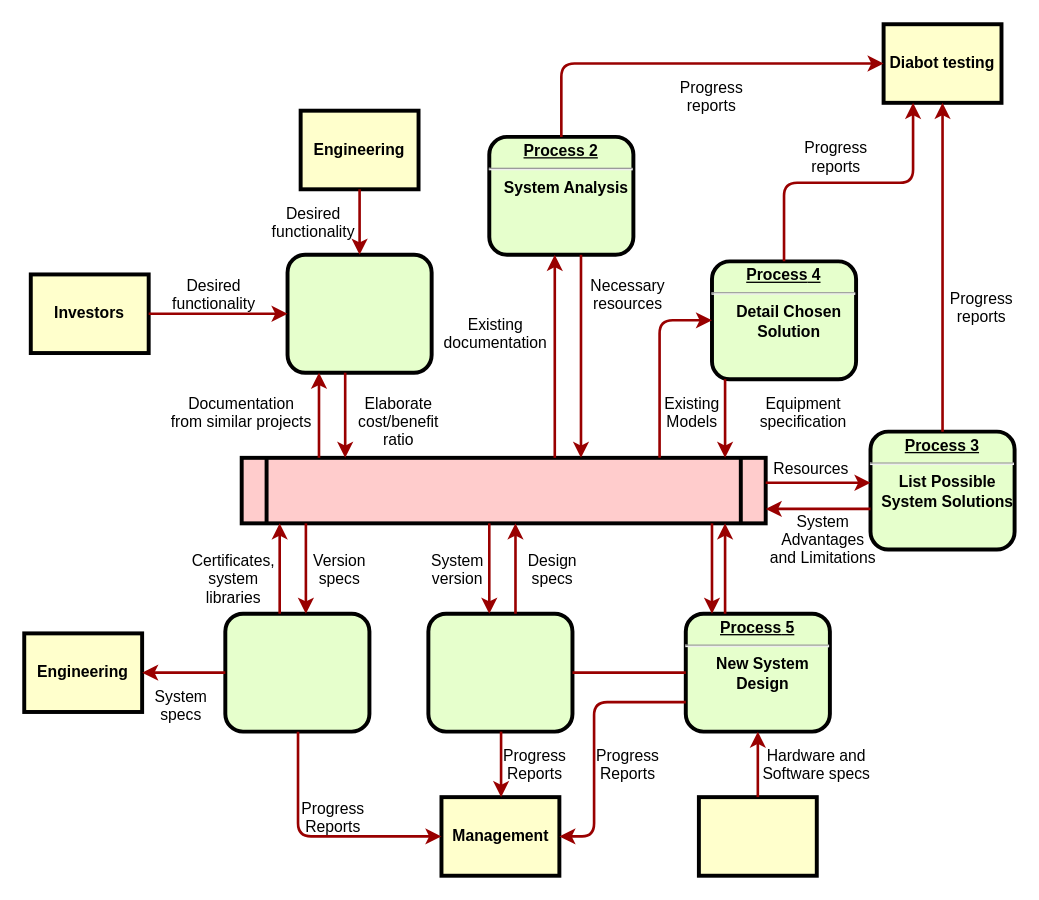
The diagram is 1039 pixels wide and 900 high, and some of its shapes have lost their labels. Each missing label, with the centre of its shape:
"ON-DEMAND SYSTEM DEVELOPMENT" goes at [503,490].
"Process 1 System Study Preparation" goes at [359,313].
"Process 6 New System Construction" goes at [297,672].
"Process 7 New System Startup and Testing" goes at [500,672].
"Vendors" goes at [757,836].
